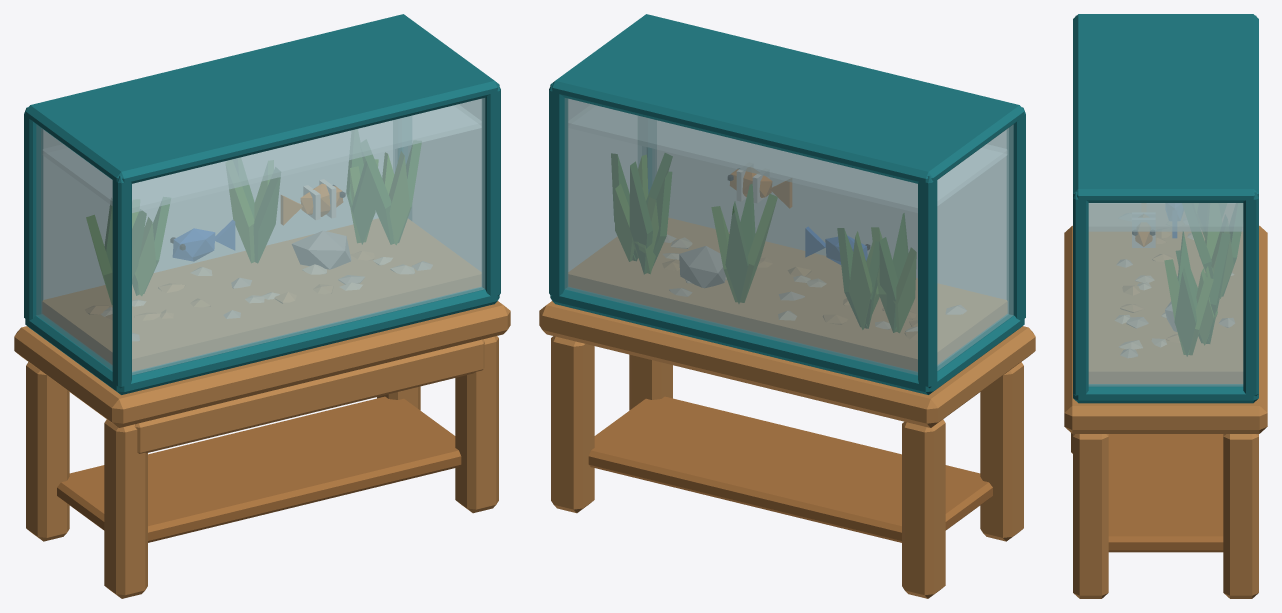
Rendered from aquarium.glb.
3 renders of one model, left to right at view 1: azimuth 30°, elevation 25°; view 2: azimuth 150°, elevation 25°; view 3: azimuth 270°, elevation 25°, orthographic. The views are drawn at different scales.
Visible parts, largest first — view 1: aquarium, part_fish_0, part_fish_1; view 2: aquarium, part_fish_0, part_fish_1; view 3: aquarium, part_fish_0.
Boxes of the visible parts, <box> form: aquarium: <box>14,14,510,598</box>; part_fish_0: <box>281,179,345,225</box>; part_fish_1: <box>170,220,234,261</box>; aquarium: <box>539,14,1035,598</box>; part_fish_0: <box>728,169,791,208</box>; part_fish_1: <box>805,227,869,264</box>; aquarium: <box>1064,14,1267,598</box>; part_fish_0: <box>1132,231,1155,247</box>.
Size of the model in its own units: 1 by 1.02 by 0.46.
